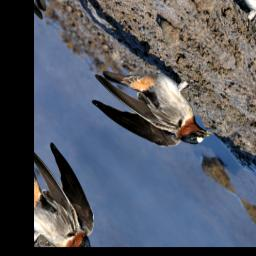Swallow: (80, 24, 231, 182)
